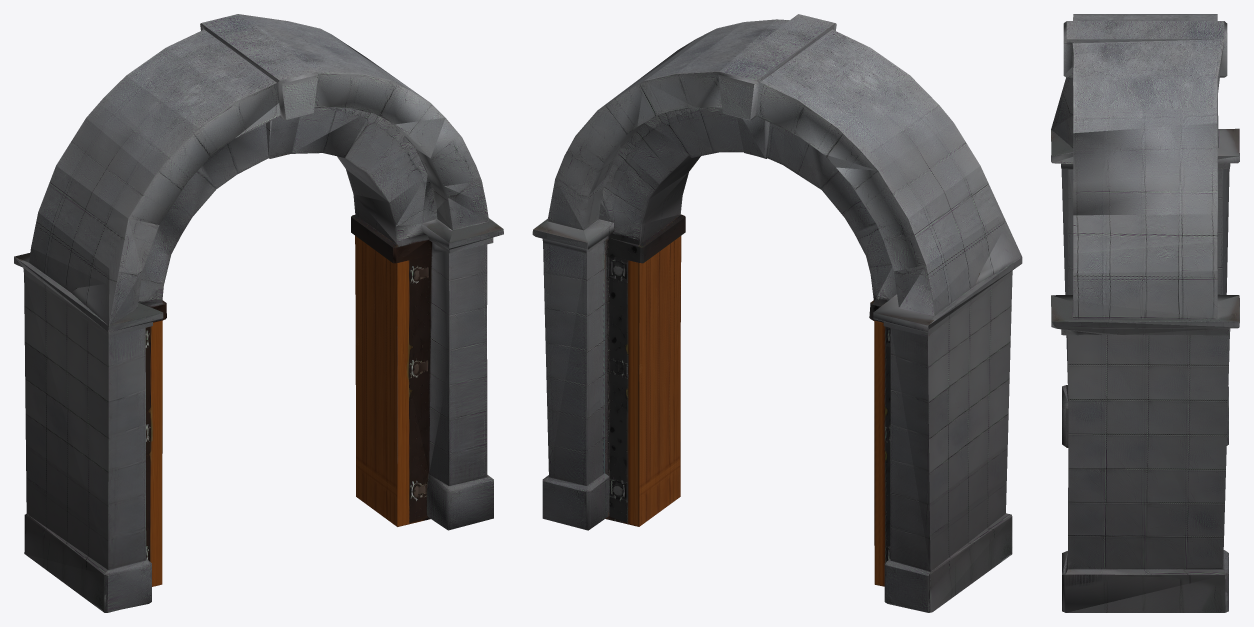
The model's file is ENV_ArchedDoorFrame.fbx.
3 views of the same model, side by side, from view 1: azimuth 30°, elevation 25°; view 2: azimuth 150°, elevation 25°; view 3: azimuth 270°, elevation 25° (orthographic).
Visible parts, largest first — view 1: Mesh_0; view 2: Mesh_0; view 3: Mesh_0.
Part boxes in pixels (x1,y1,x2,y2): Mesh_0: [14, 14, 503, 612]; Mesh_0: [532, 14, 1022, 612]; Mesh_0: [1051, 14, 1239, 612].
Bounding box in the file's own units: 159 × 190 × 65.95.
1 material, 1 textured.
